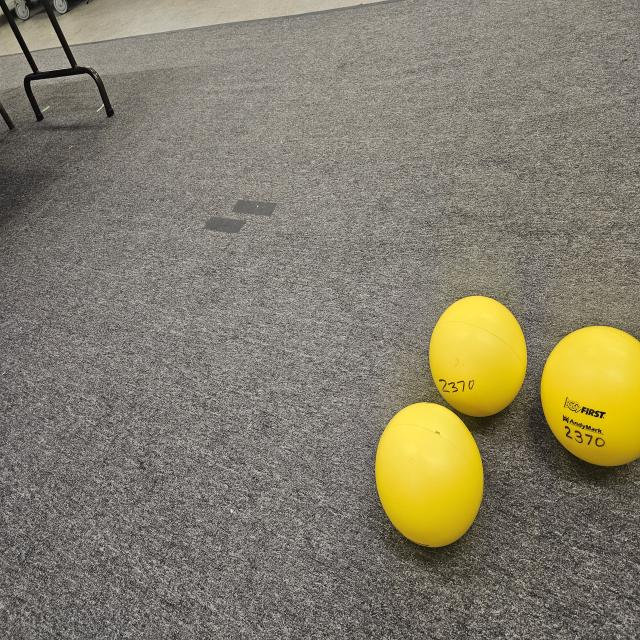Fuel: (377, 401, 483, 548), (542, 325, 640, 467), (430, 296, 528, 418)
